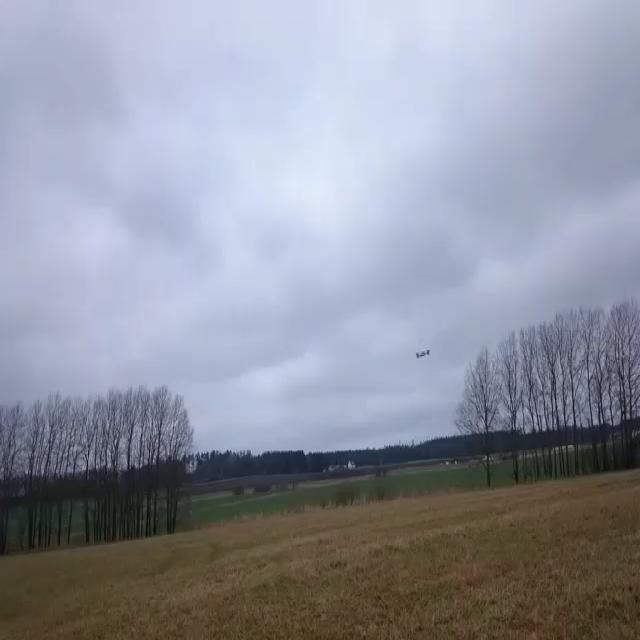Drone: (396, 334, 444, 369)
